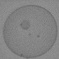small: (20, 19, 30, 29)
